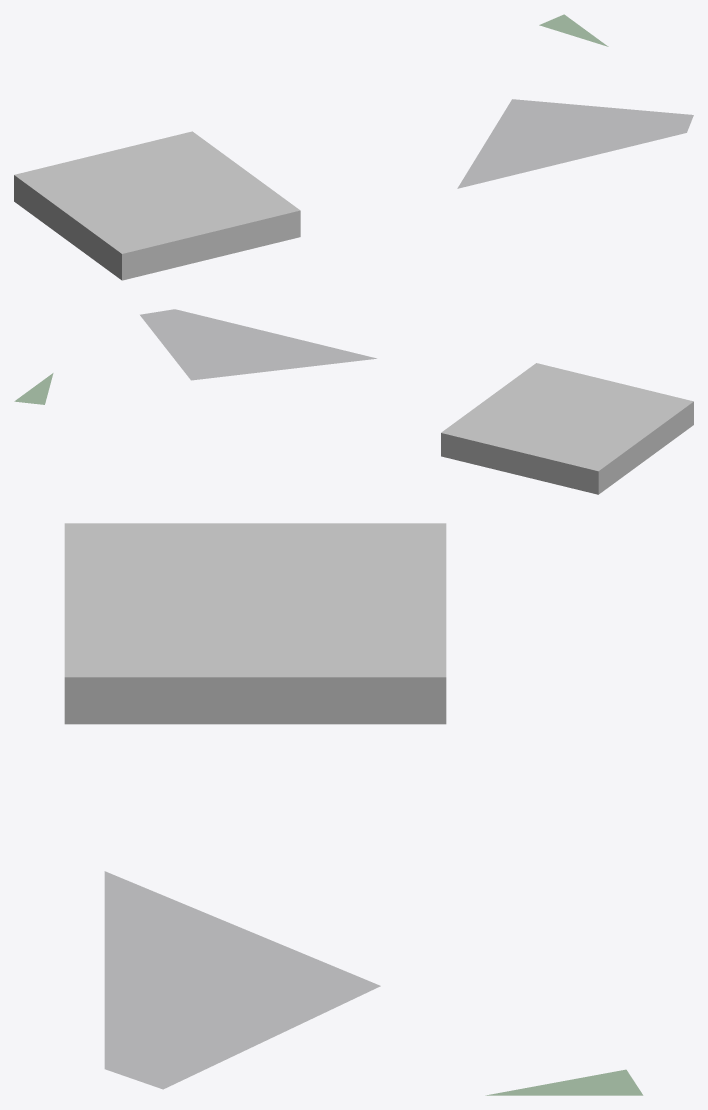
Rendered from 100_113_mid.glb.
3 renders of one model, top to bottom at view 1: azimuth 30°, elevation 25°; view 2: azimuth 150°, elevation 25°; view 3: azimuth 270°, elevation 25°, orthographic. The views are drawn at different scales.
Size of the model in its own units: 476 by 21.12 by 223.
